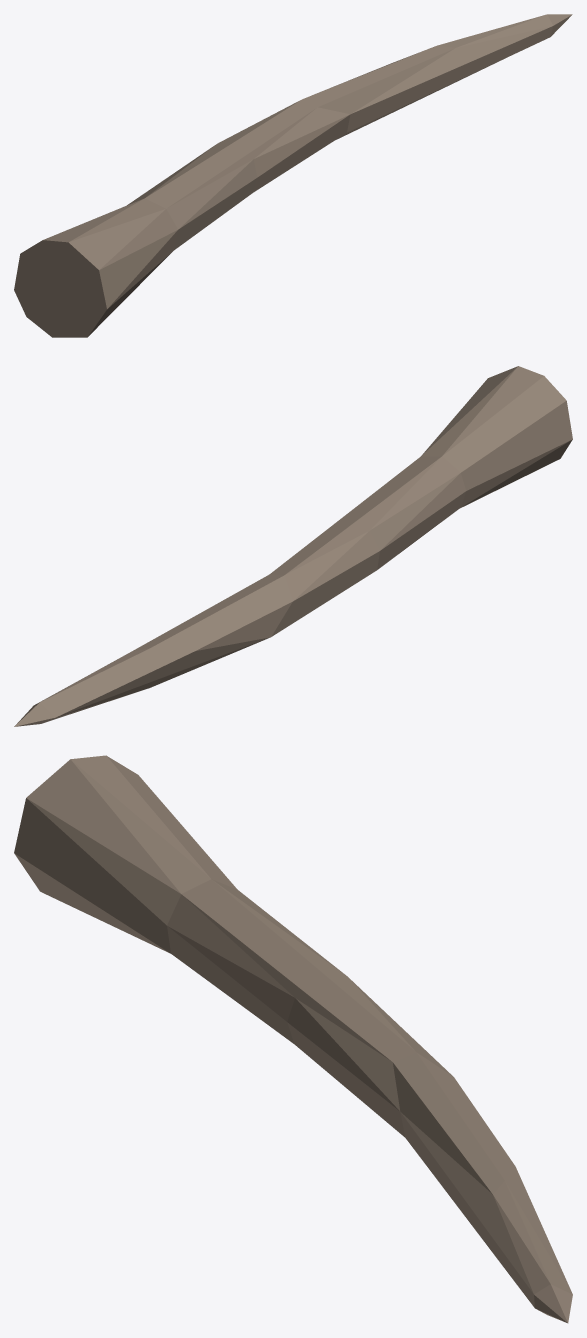
The model's file is fallen_tree1.gltf.
3 renders of one model, top to bottom at view 1: azimuth 30°, elevation 25°; view 2: azimuth 210°, elevation 25°; view 3: azimuth 270°, elevation 25°, orthographic. The views are drawn at different scales.
Parts seen in each view (by area): view 1: Sphere.058_wood_0; view 2: Sphere.058_wood_0; view 3: Sphere.058_wood_0.
Boxes of the visible parts, x1,y1,x2,y2 form: Sphere.058_wood_0: (14, 14, 572, 337); Sphere.058_wood_0: (14, 366, 572, 726); Sphere.058_wood_0: (14, 755, 572, 1323).
Size of the model in its own units: 1.67 by 0.2208 by 0.8043.
